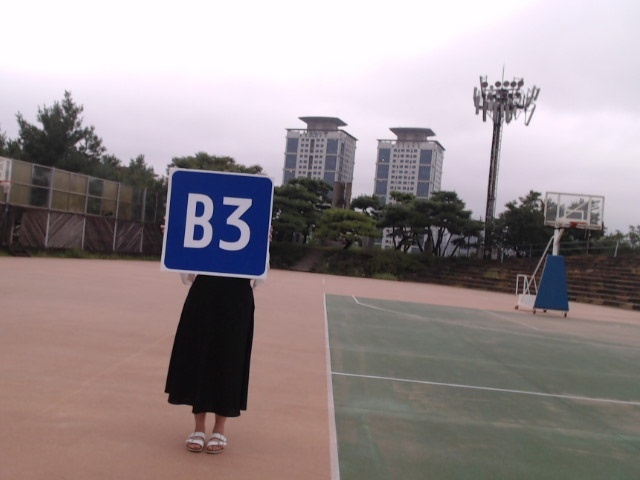delivery_b3: (162, 169, 273, 278)
